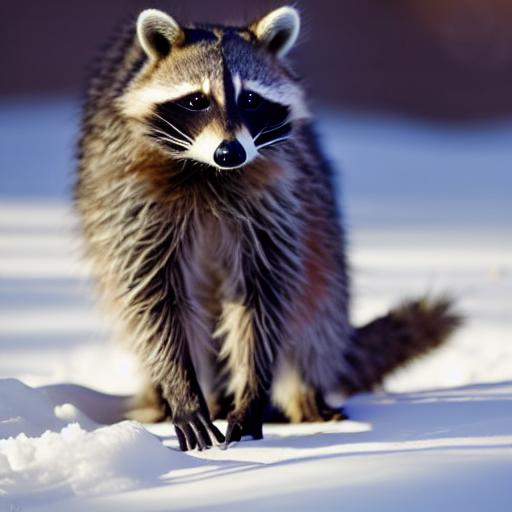raccoon: (62, 0, 472, 410)
